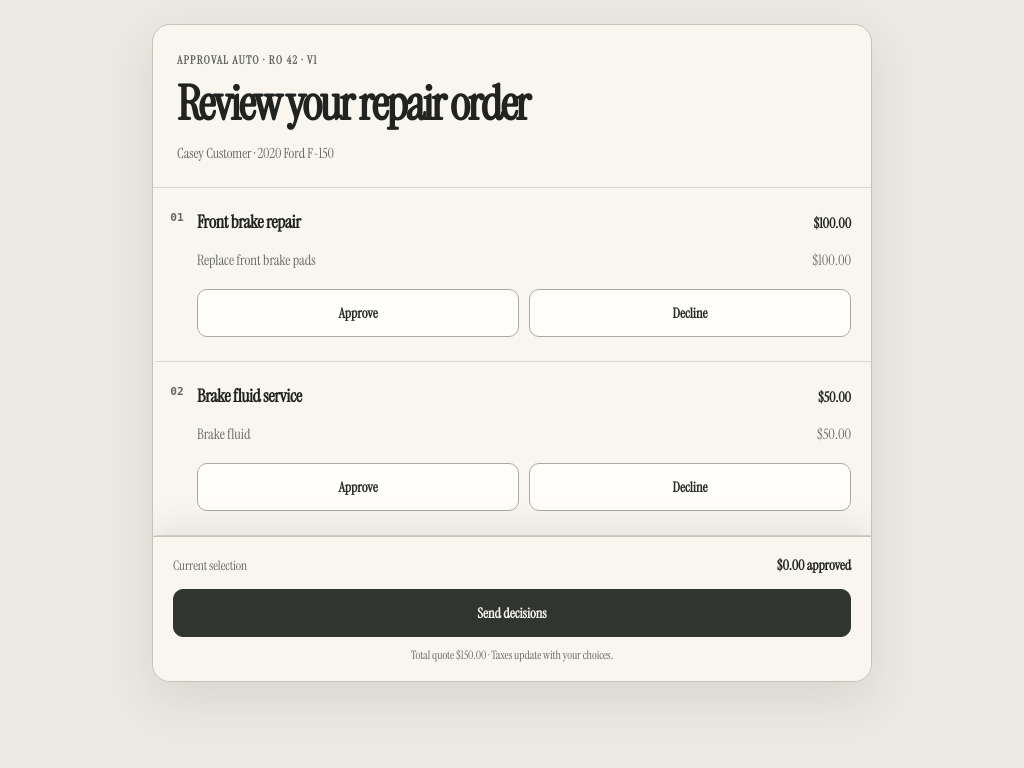
Test: customer approval surface › keeps refusal beside the action, updates the exact selected total, and settles into a receipt
Click the button with aria-label "Approve Front brake repair".
click(358, 313)  # box [197,289,519,337]
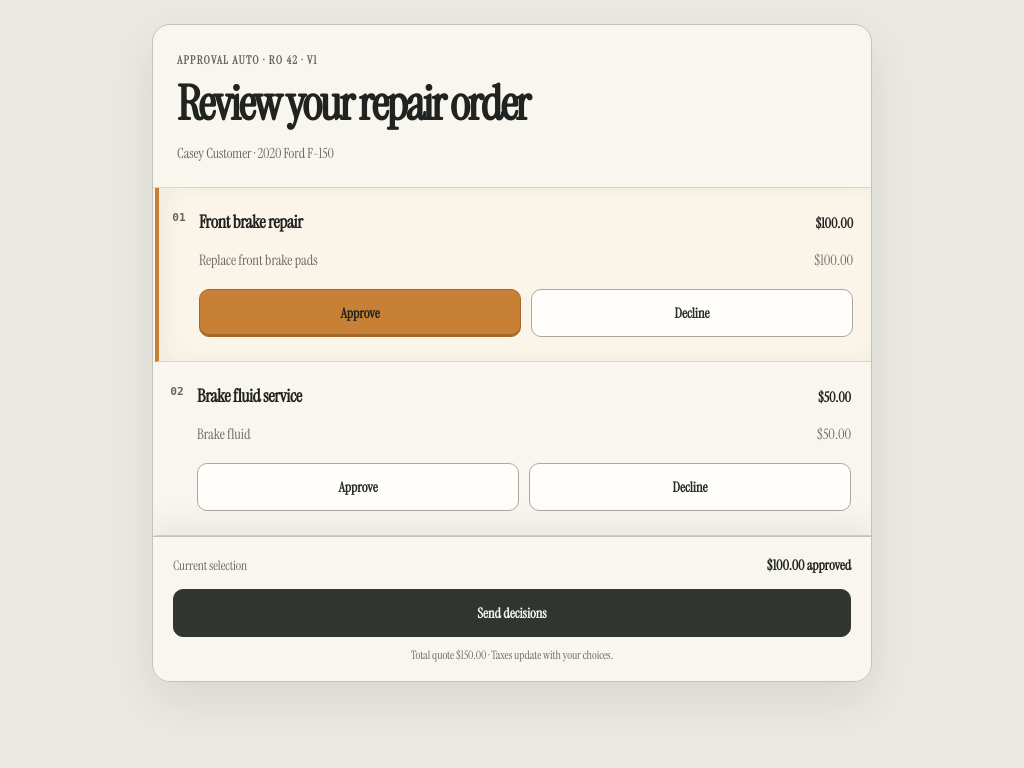
Check: the text "$100.00 approved" is shown, box [767,555,851,575]
Click the button "Send decisions".
click(512, 613)  # box [173,589,851,637]
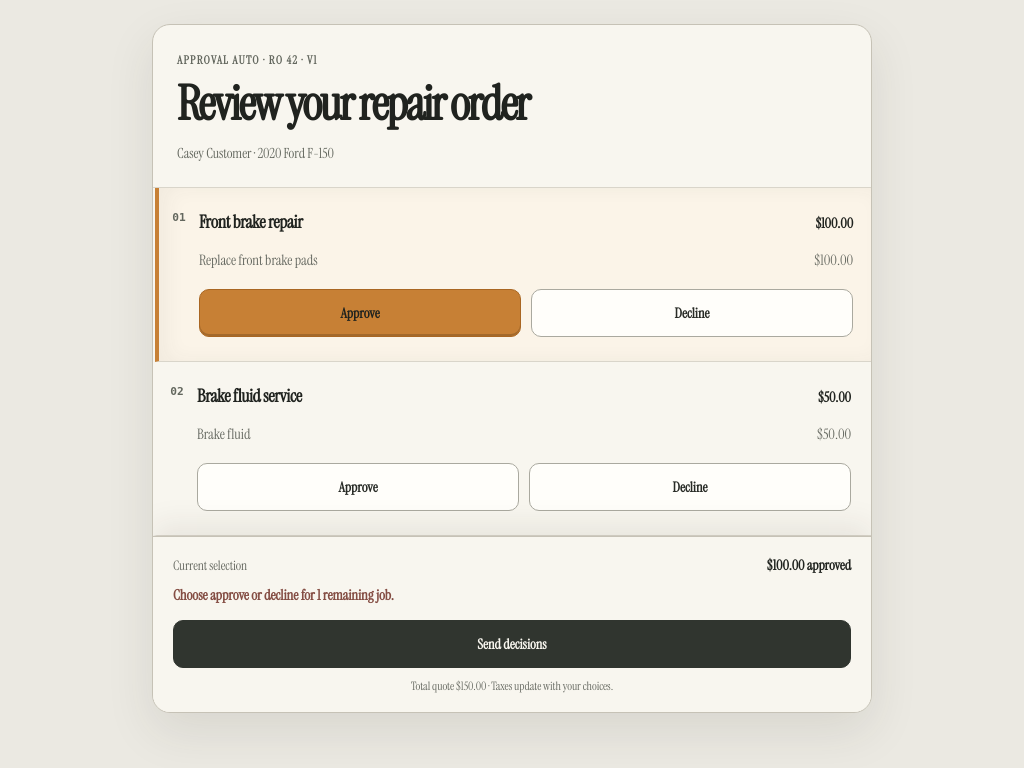
Check: the message reads "Choose approve or decline for 1 remaining job.", box [173,586,394,604]
Click the button with aria-label "Decline Brake fluid service".
click(690, 487)  # box [529,463,851,511]
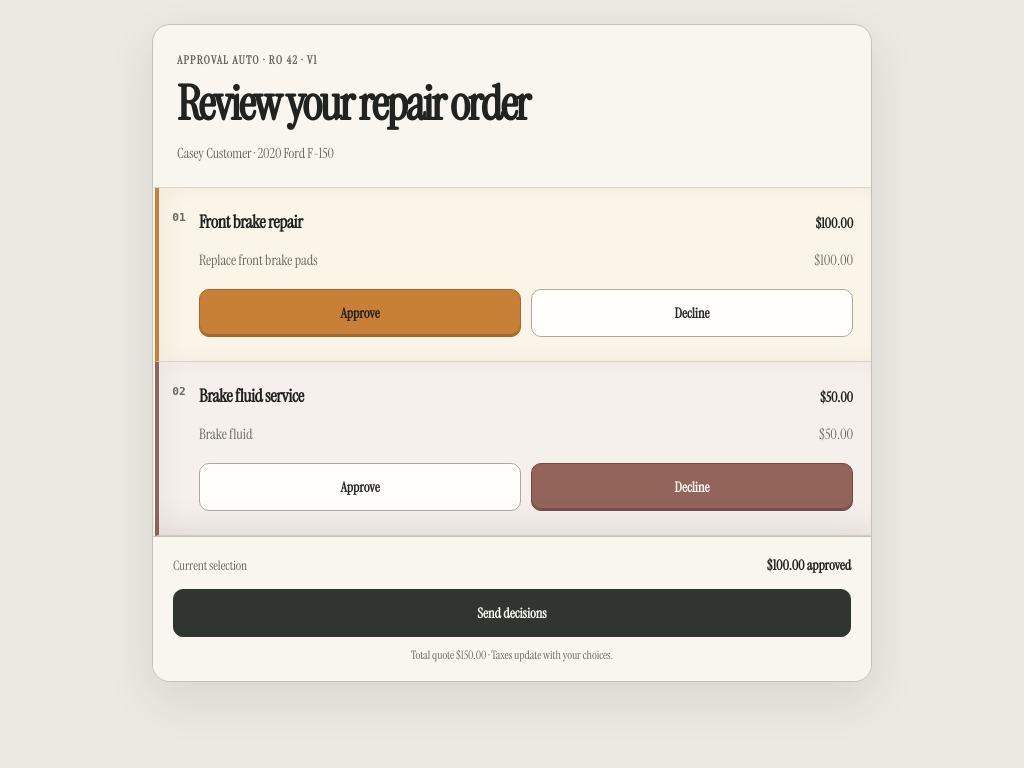
Click the button "Send decisions".
click(512, 613)  # box [173,589,851,637]
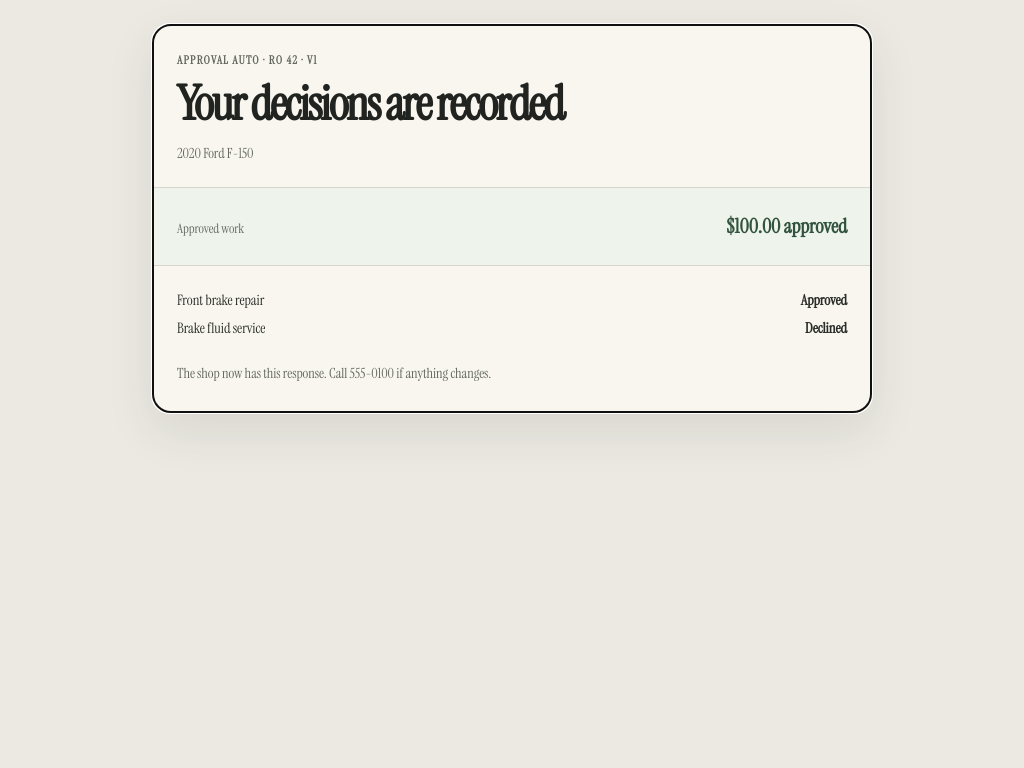
Check: the text "Approval Auto · RO 42 · V1" is shown, box [177,53,318,68]
Check: the heading "Your decisions are recorded" is shown, box [177,80,574,129]
Check: the text "$100.00 approved" is shown, box [726,212,847,241]
